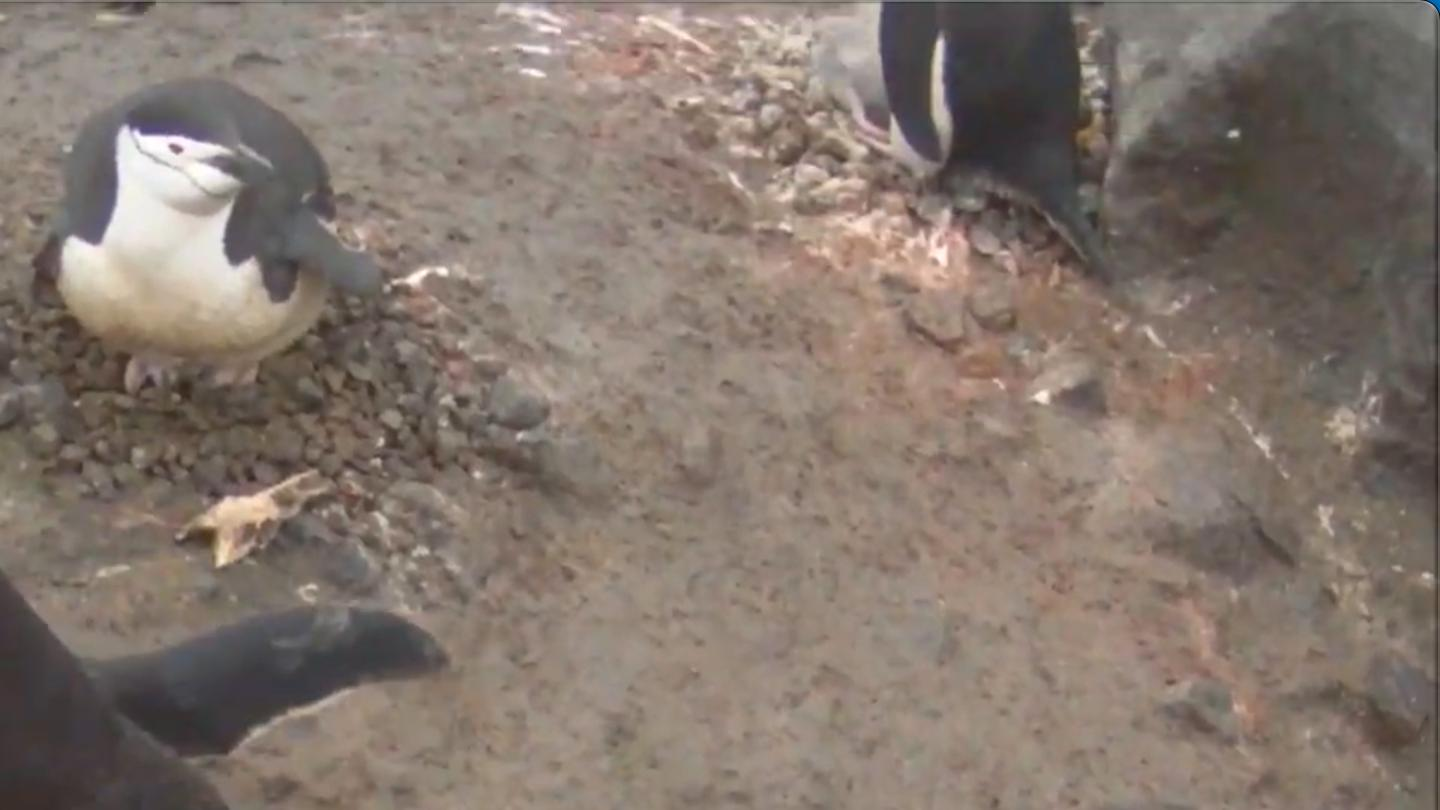Chinstrap Penguin: (0, 484, 512, 810), (32, 50, 373, 398)
